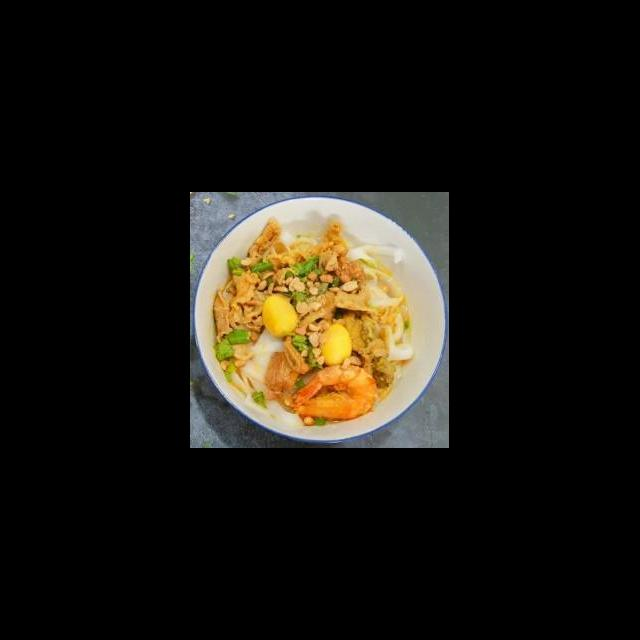mi: (223, 322, 310, 426), (342, 240, 410, 311), (364, 305, 416, 364)
tom: (290, 360, 378, 424)
trung: (316, 321, 356, 368), (260, 293, 300, 339)
